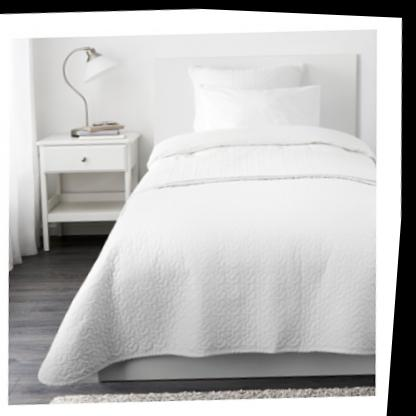Bed: (104, 32, 397, 399)
